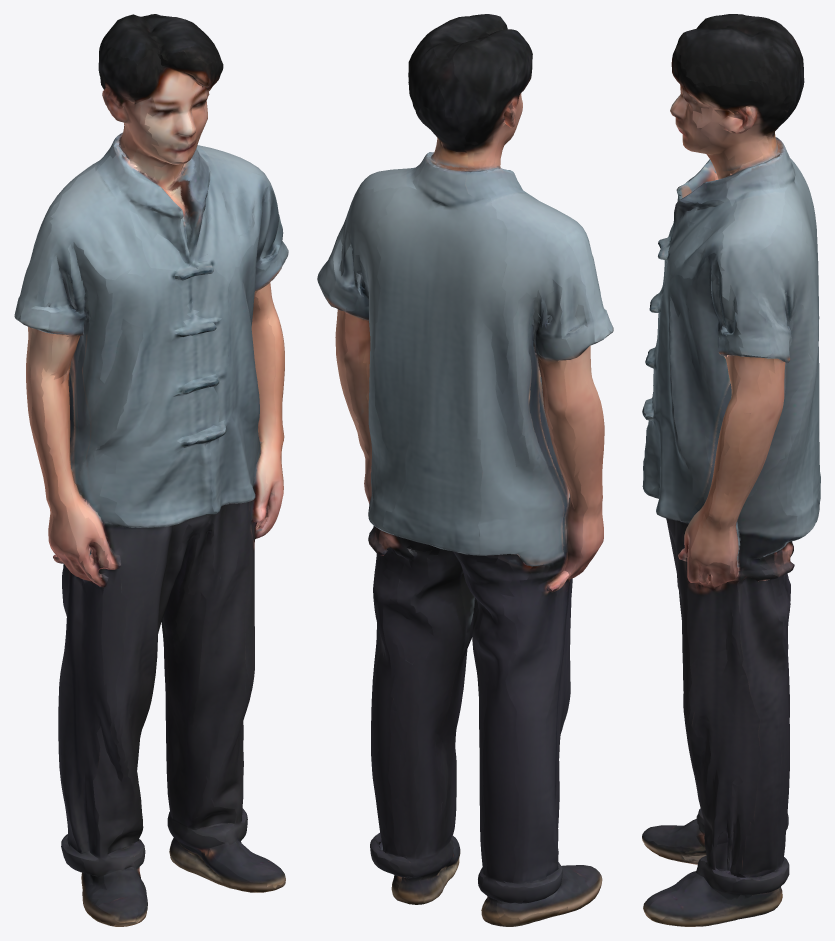
The model's file is militia_young.glb.
3 views of the same model, side by side, from view 1: azimuth 30°, elevation 25°; view 2: azimuth 150°, elevation 25°; view 3: azimuth 270°, elevation 25° (orthographic).
Visible parts, largest first — view 1: geometry_0; view 2: geometry_0; view 3: geometry_0.
Boxes of the visible parts, box(x1,y1,x2,y2) form: geometry_0: box(14, 14, 288, 926); geometry_0: box(317, 14, 613, 926); geometry_0: box(642, 14, 820, 926).
Size of the model in its own units: 0.587 by 1.75 by 0.3305.
1 material, 1 textured.
